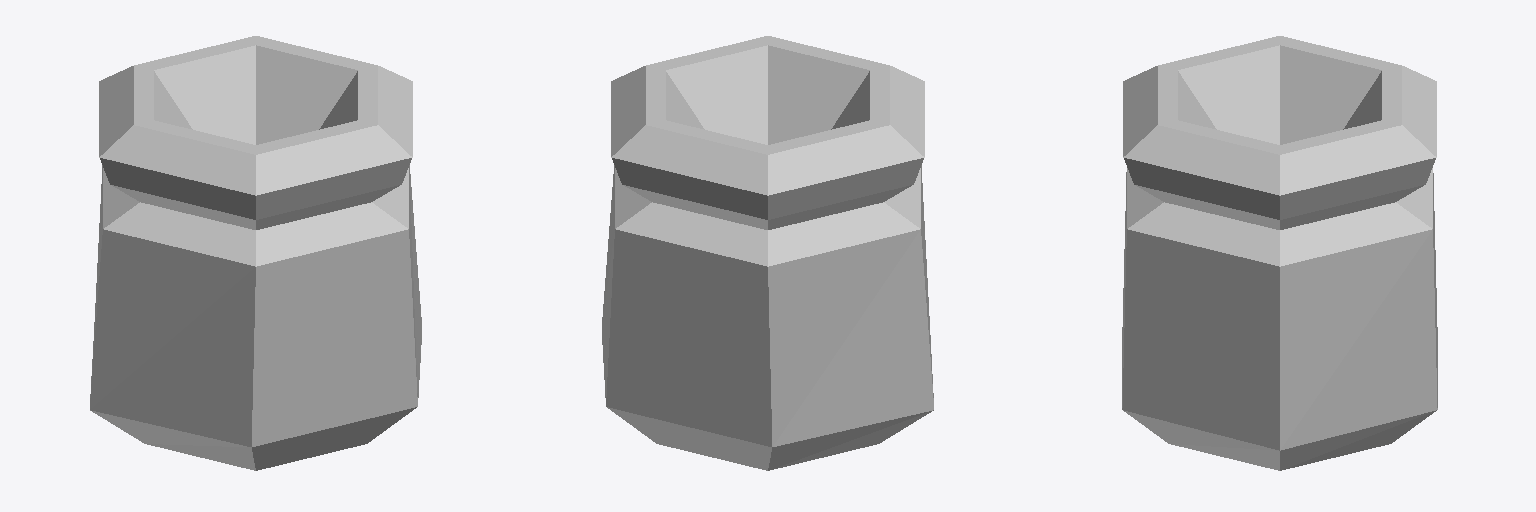
The model's file is jug_004.obj.
3 renders of one model, left to right at view 1: azimuth 30°, elevation 25°; view 2: azimuth 150°, elevation 25°; view 3: azimuth 270°, elevation 25°, orthographic.
Visible parts, largest first — view 1: jug_004; view 2: jug_004; view 3: jug_004.
Part boxes in pixels (x1,y1,x2,y2): jug_004: (90,36,421,470); jug_004: (602,36,933,470); jug_004: (1122,36,1437,470).
Size of the model in its own units: 0.3624 by 0.3344 by 0.2971.